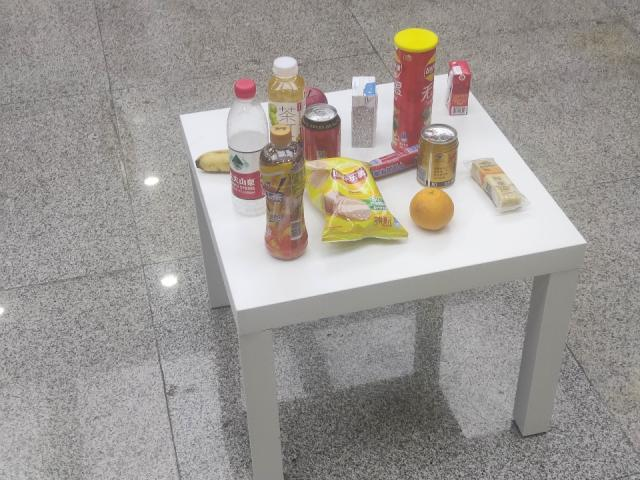Canned_drinks: (416, 122, 458, 189), (303, 102, 343, 160)
bottle: (216, 73, 270, 218)
cylinder: (391, 27, 439, 156)
drink_box: (348, 71, 378, 151), (444, 57, 472, 117)
